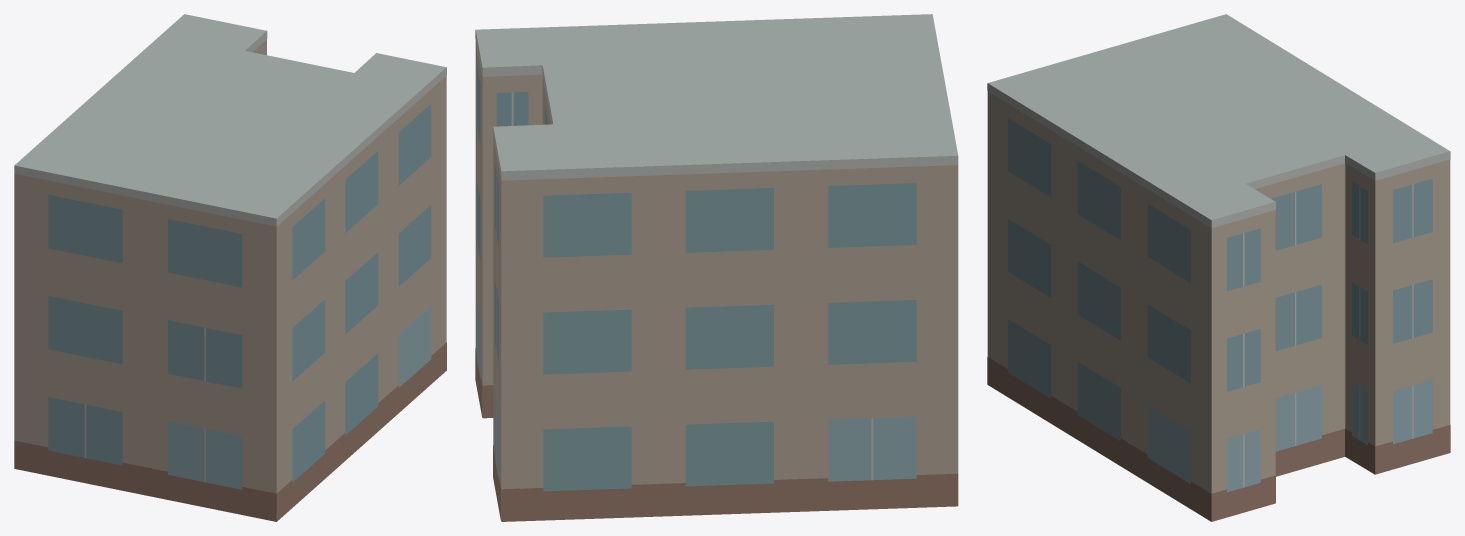
Rendered from survey-upis-32719408.glb.
3 renders of one model, left to right at view 1: azimuth 30°, elevation 25°; view 2: azimuth 150°, elevation 25°; view 3: azimuth 270°, elevation 25°, orthographic. The views are drawn at different scales.
Parts seen in each view (by area): view 1: survey-upis-32719408.tmp; view 2: survey-upis-32719408.tmp; view 3: survey-upis-32719408.tmp.
Part boxes in pixels (x1,y1,x2,y2): survey-upis-32719408.tmp: [14, 14, 446, 521]; survey-upis-32719408.tmp: [475, 14, 958, 521]; survey-upis-32719408.tmp: [987, 14, 1450, 521].
Size of the model in its own units: 13.43 by 9.15 by 12.74.
